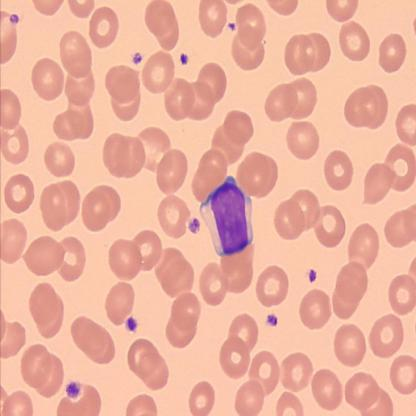Atypical lymphocyte: (200, 175, 255, 255)
